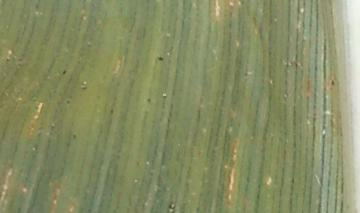tarspot: (156, 54, 165, 62), (60, 67, 68, 75), (168, 202, 174, 212), (329, 76, 335, 86), (145, 95, 152, 103), (64, 98, 72, 105), (4, 55, 11, 62), (71, 131, 77, 138), (110, 106, 114, 115)
